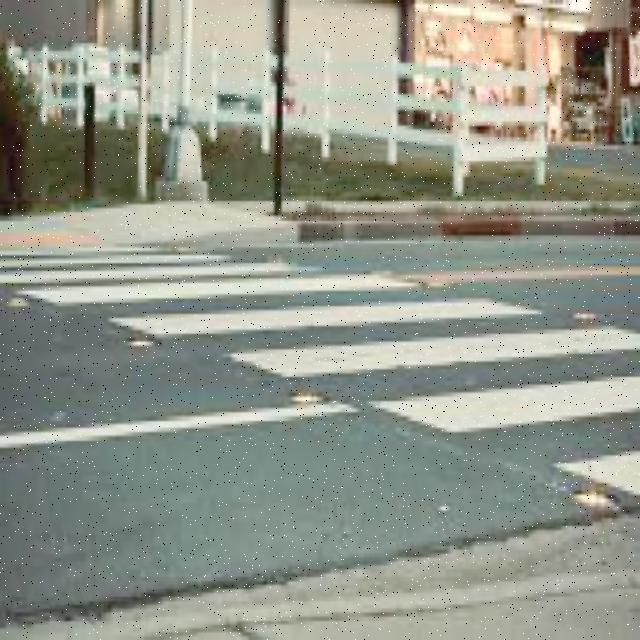crosswalk: (22, 236, 639, 519)
